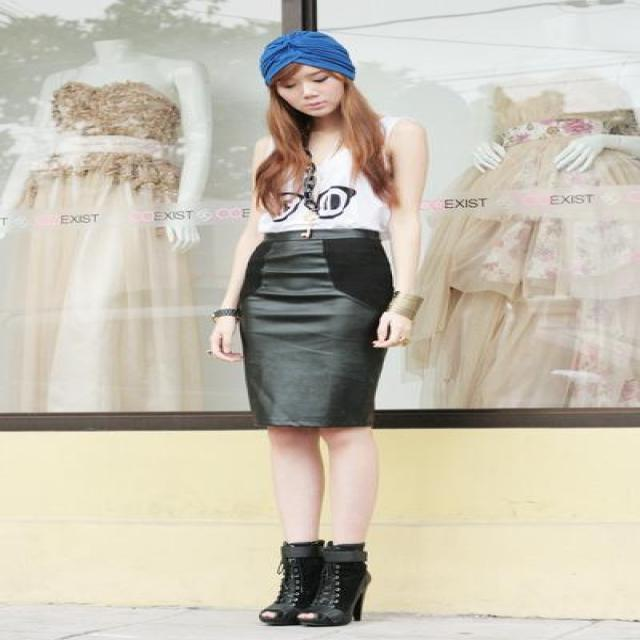hat: (261, 30, 355, 88)
shirt: (283, 149, 381, 236)
shoe: (259, 540, 370, 626)
skirt: (214, 229, 397, 442)
